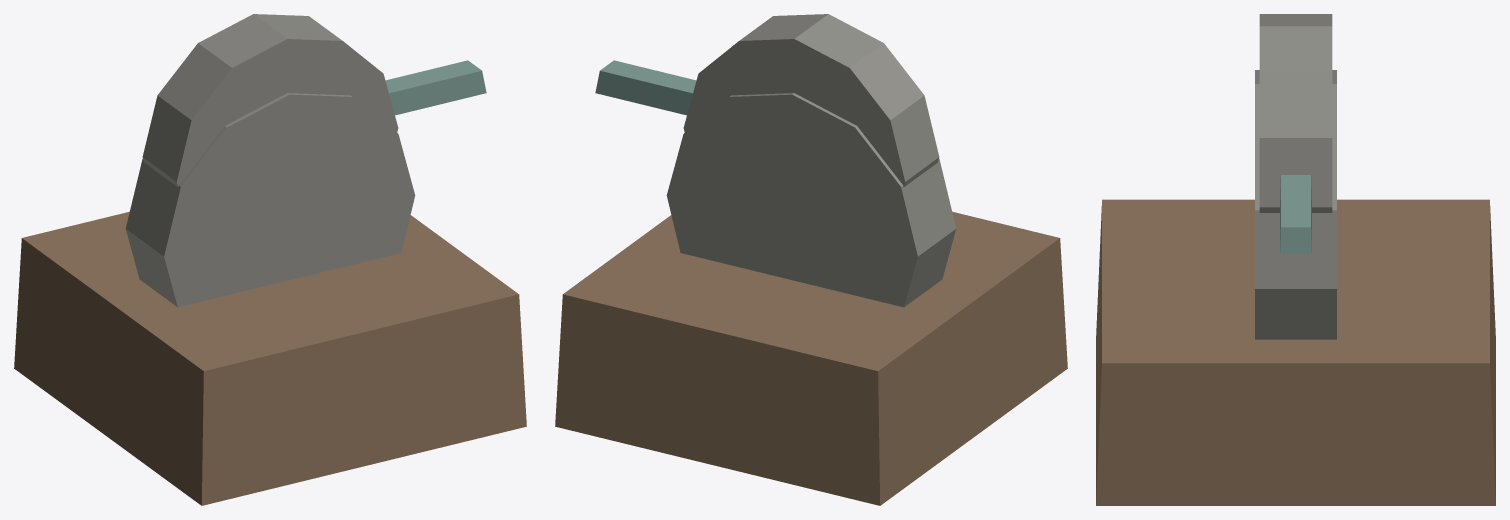
Rendered from station_hand_mill.glb.
3 views of the same model, side by side, from view 1: azimuth 30°, elevation 25°; view 2: azimuth 150°, elevation 25°; view 3: azimuth 270°, elevation 25° (orthographic). The views are drawn at different scales.
Visible parts, largest first — view 1: part_0, part_1, part_2, part_3; view 2: part_0, part_1, part_2, part_3; view 3: part_0, part_2, part_1, part_3.
Part boxes in pixels (box(x1,y1,x2,y2)): part_0: box(14, 211, 526, 505); part_1: box(125, 93, 415, 307); part_2: box(142, 14, 398, 187); part_3: box(385, 60, 486, 115); part_0: box(555, 211, 1067, 505); part_1: box(666, 93, 956, 307); part_2: box(683, 14, 939, 187); part_3: box(595, 60, 696, 115); part_0: box(1096, 199, 1495, 505); part_2: box(1259, 14, 1332, 212); part_1: box(1255, 70, 1336, 339); part_3: box(1280, 175, 1311, 253).
Size of the model in its own units: 1 by 0.96 by 0.88.
